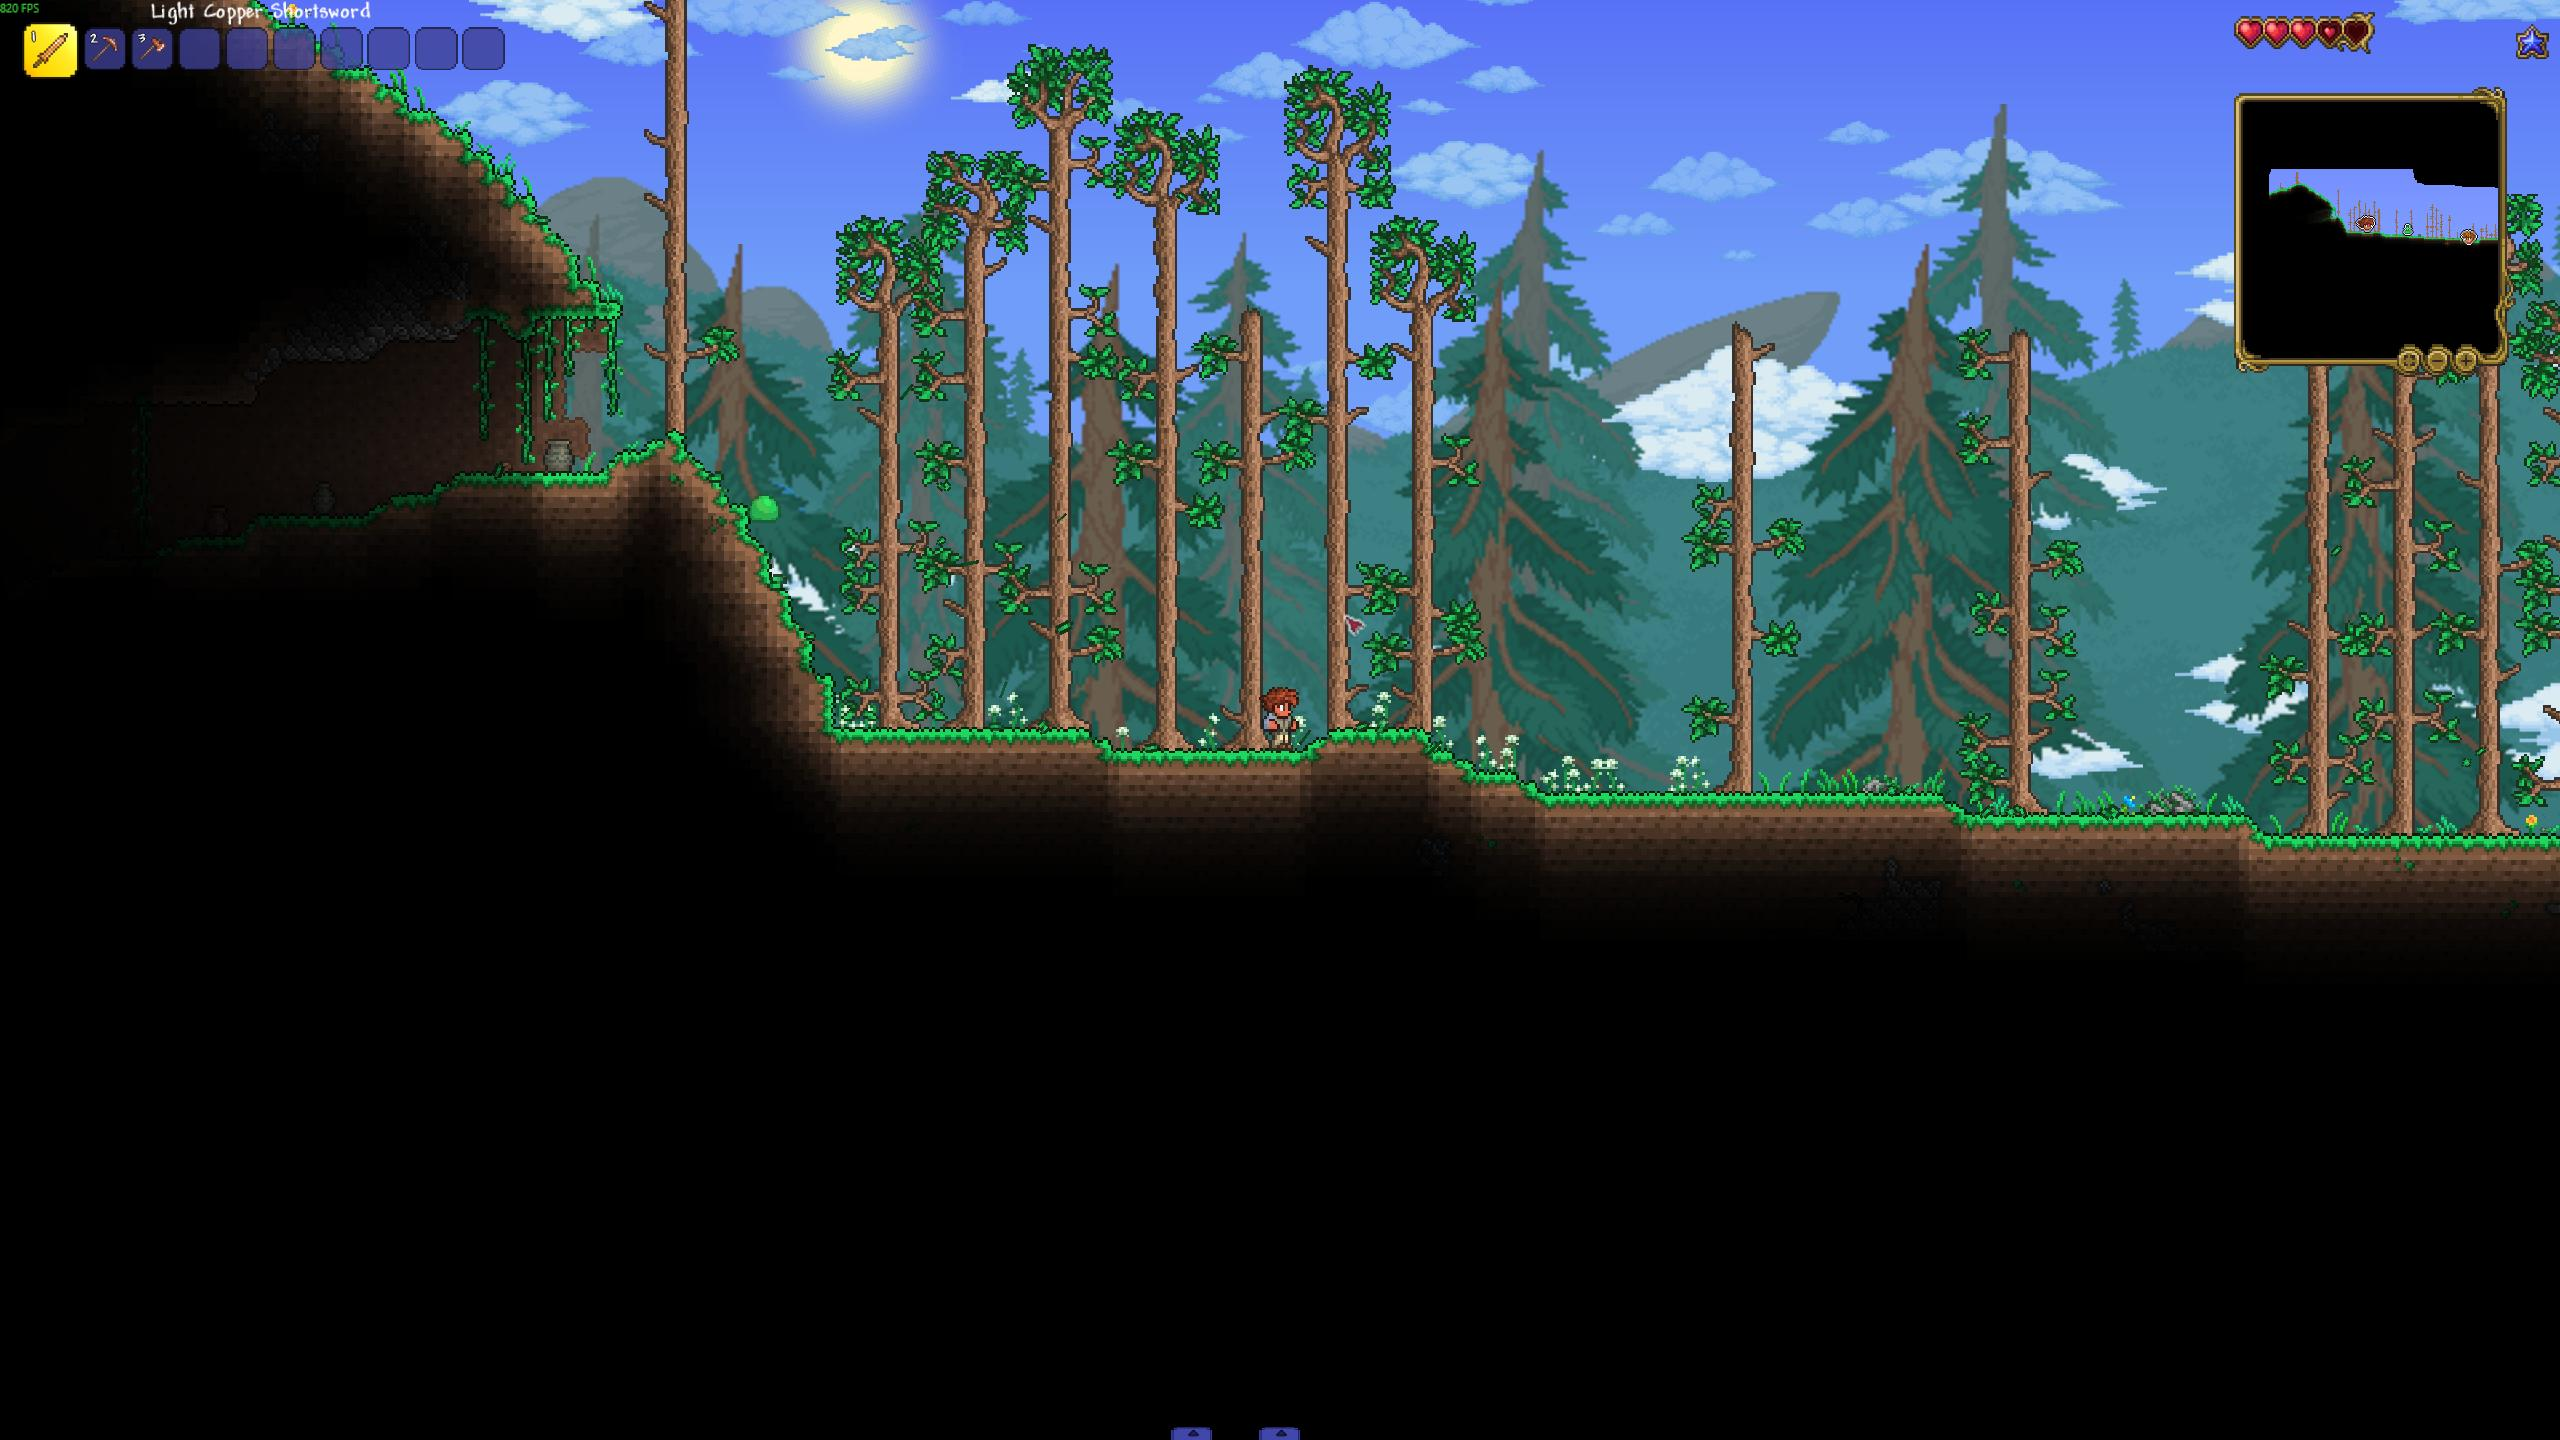Green Slime: (747, 491, 782, 524)
